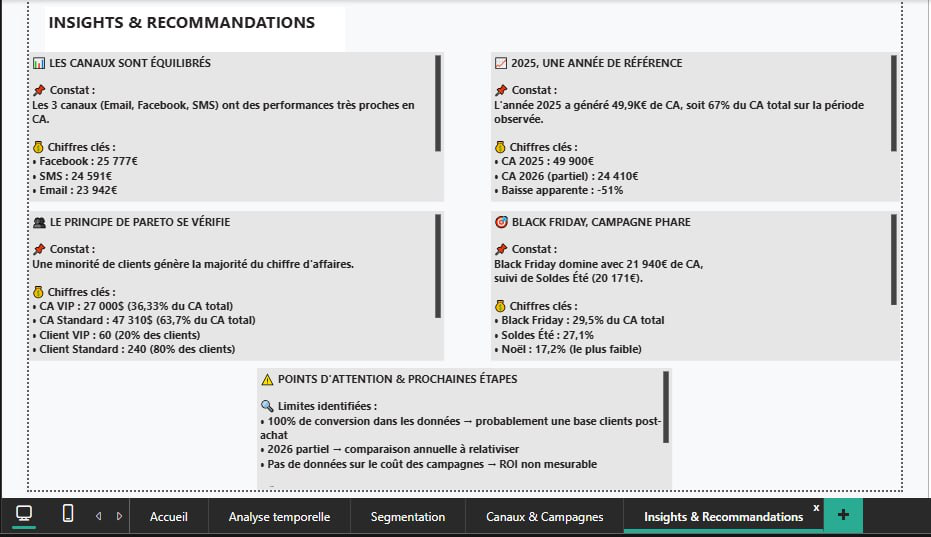

The dashboard page shown, as its layout file describes it:
{"tool":"powerbi","page":{"name":"Insights & Recommandations","canvas":[1280,720],"ordinal":4},"visuals":[{"type":"textbox","box":[23.5,10.3,440.8,66.1],"z":0},{"type":"textbox","box":[678.9,76.4,601,220.4],"z":6},{"type":"textbox","box":[0,76.4,609.8,220.4],"z":7},{"type":"textbox","box":[0,310,609.8,220.4],"z":8},{"type":"textbox","box":[678.9,310,601,220.4],"z":9},{"type":"textbox","box":[335,540.7,609.8,179.3],"z":10}]}

Visuals, with their boxes on the page's 1280x720 design canvas (x1, y1, x2, y2). These are canvas units, not pixel positions in the 931x537 screenshot, which may show the page scaled, cropped or inside an application window:
textbox: x1=24 y1=10 x2=464 y2=76
textbox: x1=679 y1=76 x2=1280 y2=297
textbox: x1=0 y1=76 x2=610 y2=297
textbox: x1=0 y1=310 x2=610 y2=530
textbox: x1=679 y1=310 x2=1280 y2=530
textbox: x1=335 y1=541 x2=945 y2=720
